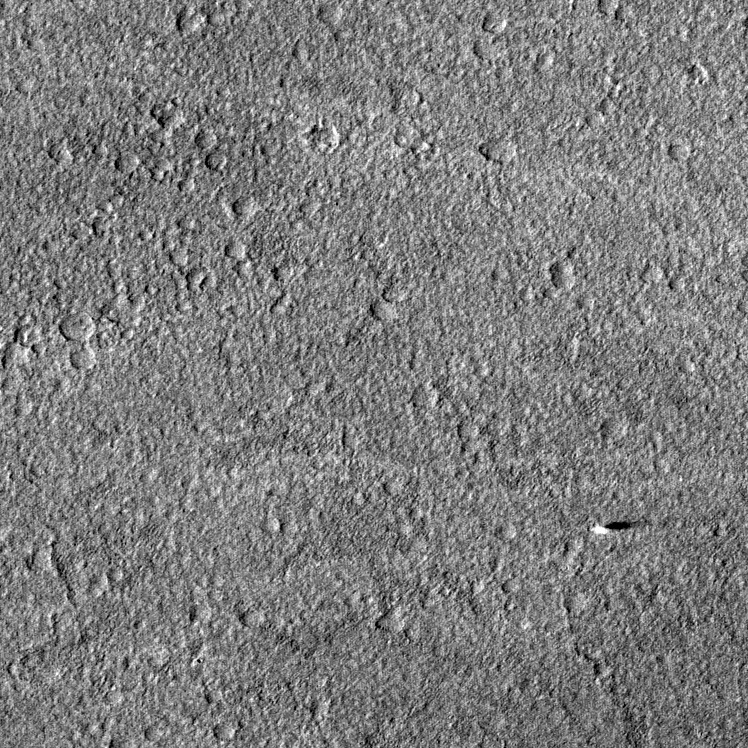dust_devil: (589, 518, 633, 537)
